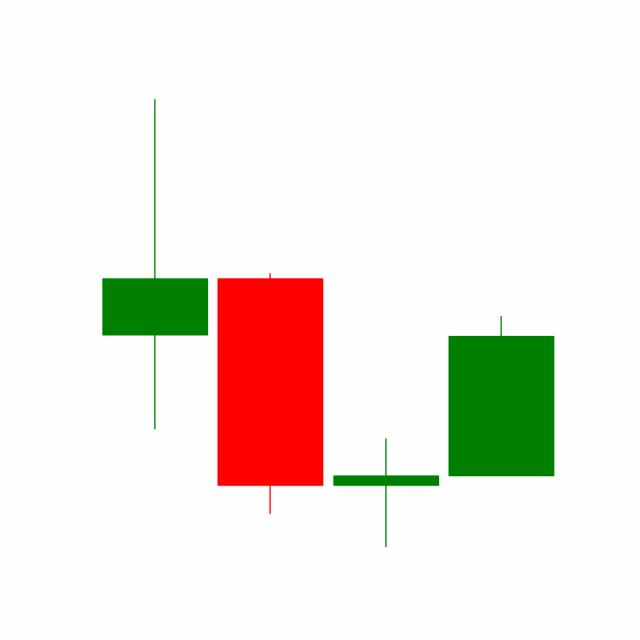Marubozu: (443, 313, 559, 477)
